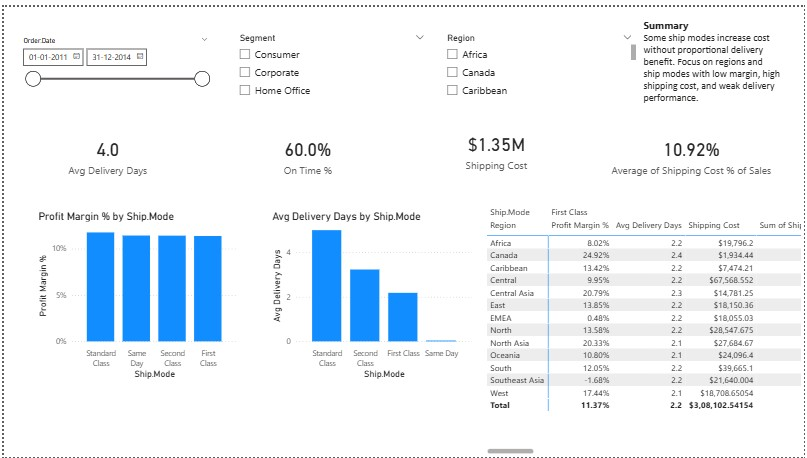

The dashboard page shown, as its layout file describes it:
{"tool":"powerbi","page":{"name":"Shipping Cost and Delivery SLA","canvas":[1280,720],"ordinal":3},"visuals":[{"type":"slicer","fields":{"Values":["superstore.Order.Date"]},"box":[18,42,320,112],"z":0},{"type":"slicer","fields":{"Values":["superstore.Segment"]},"box":[363.3,35,320,150],"z":1000},{"type":"slicer","fields":{"Values":["superstore.Region"]},"box":[696.7,35,320,126.7],"z":2000},{"type":"card","fields":{"Values":["superstore.Avg Delivery Days"]},"box":[18.3,161.7,296.7,150],"z":3000},{"type":"card","fields":{"Values":["superstore.On Time %"]},"box":[338.3,161.7,296.7,150],"z":4000},{"type":"card","fields":{"Values":["superstore.Shipping Cost"]},"box":[640,154,296,150],"z":5000},{"type":"card","fields":{"Values":["Avg(superstore.Shipping Cost % of Sales)"]},"box":[952,162,296,150],"z":6000},{"type":"clusteredColumnChart","fields":{"Category":["superstore.Ship.Mode"],"Y":["superstore.Profit Margin %"]},"box":[50,324,328,276],"z":7000},{"type":"clusteredColumnChart","fields":{"Category":["superstore.Ship.Mode"],"Y":["superstore.Avg Delivery Days"]},"box":[424,324,330,276],"z":8000},{"type":"pivotTable","fields":{"Rows":["superstore.Region"],"Columns":["superstore.Ship.Mode"],"Values":["superstore.Profit Margin %","superstore.Avg Delivery Days","superstore.Shipping Cost","Sum(superstore.Shipping Cost % of Sales)"]},"box":[768,312,512,408],"z":9000},{"type":"textbox","box":[1017,12,231,150],"z":10000}]}

Visuals, with their boxes in screenshot pixels (x1, y1, x2, y2), scaled from the page's 1280x720 canvas onto the 807x458 screenshot:
slicer - superstore.Order.Date: (11, 27, 213, 98)
slicer - superstore.Segment: (229, 22, 431, 118)
slicer - superstore.Region: (439, 22, 641, 103)
card - superstore.Avg Delivery Days: (12, 103, 199, 198)
card - superstore.On Time %: (213, 103, 400, 198)
card - superstore.Shipping Cost: (404, 98, 590, 193)
card - Avg(superstore.Shipping Cost % of Sales): (600, 103, 787, 198)
clusteredColumnChart - superstore.Ship.Mode x superstore.Profit Margin %: (32, 206, 238, 382)
clusteredColumnChart - superstore.Ship.Mode x superstore.Avg Delivery Days: (267, 206, 475, 382)
pivotTable - superstore.Region x superstore.Ship.Mode: (484, 198, 806, 457)
textbox: (641, 8, 787, 103)
